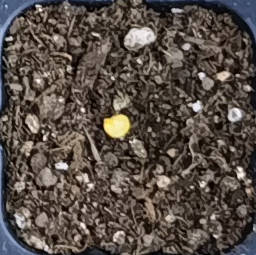pepper seed: (36, 45, 167, 183)
